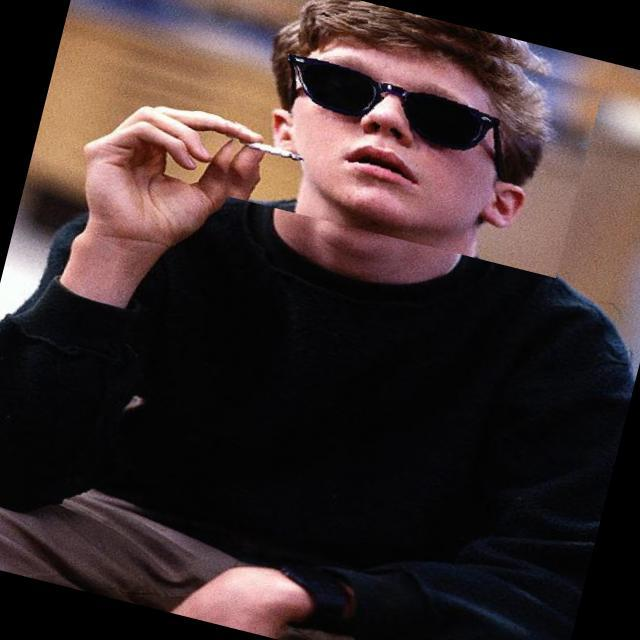cigarette: (203, 117, 305, 160)
